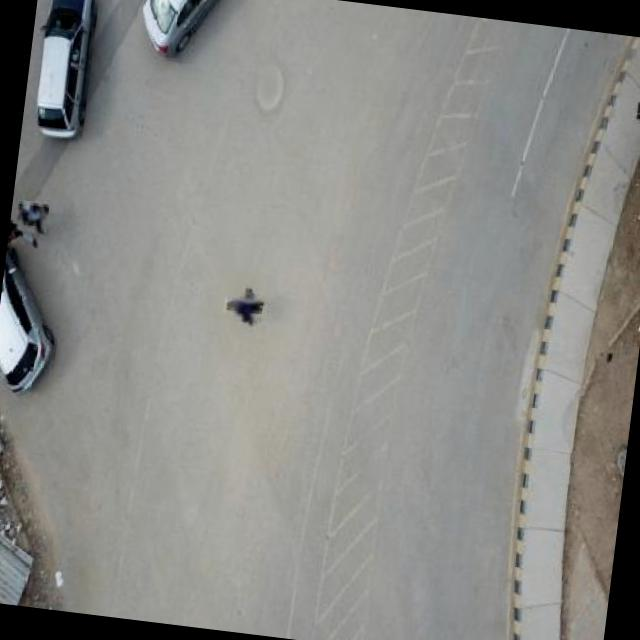Person: (228, 290, 263, 324), (16, 201, 49, 235)
